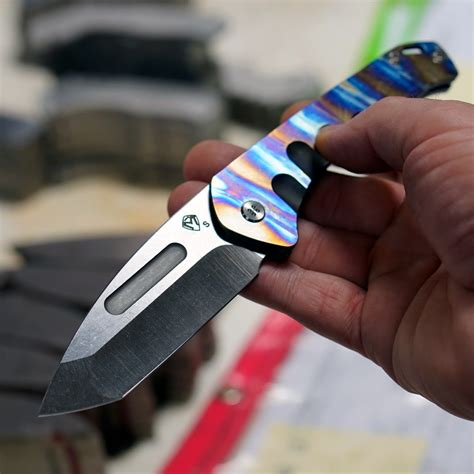knife: (35, 37, 458, 419)
